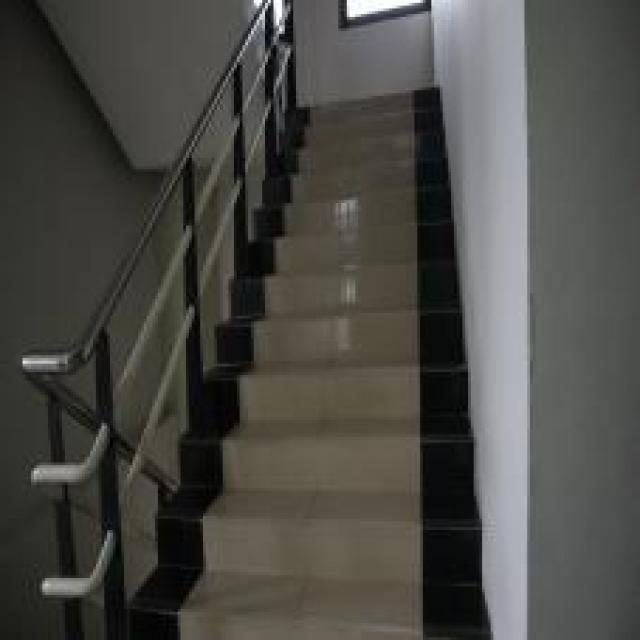upstair: (272, 91, 497, 638)
